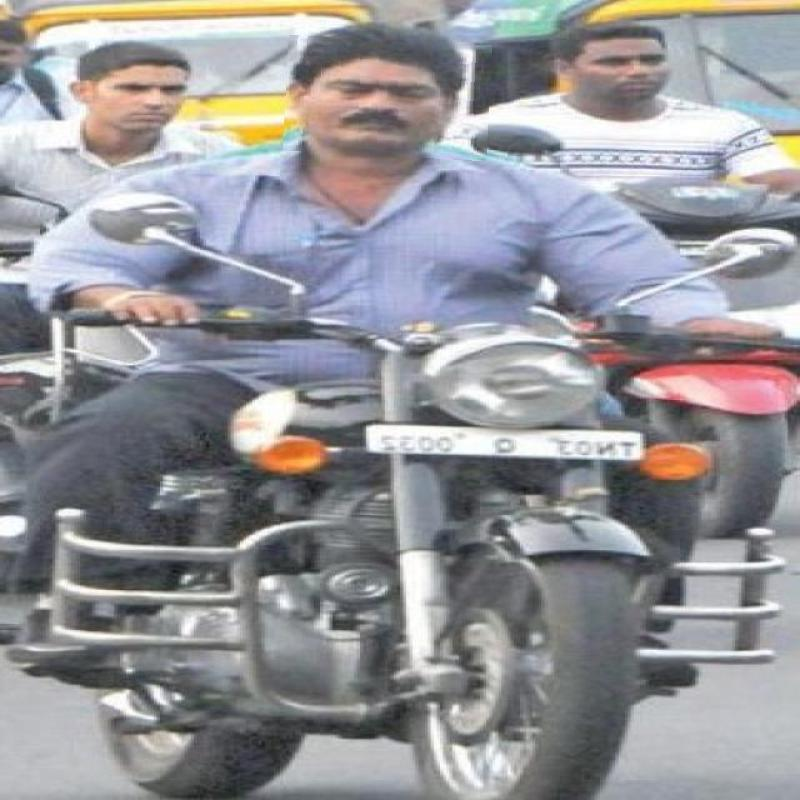nohelmet: (285, 38, 491, 158)
